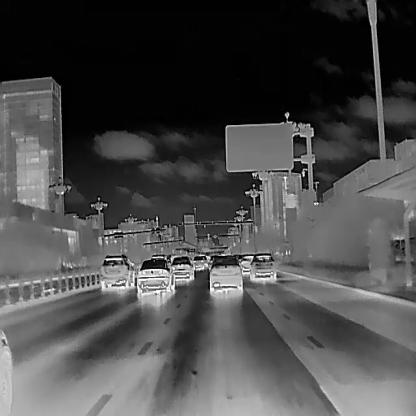car: (136, 257, 174, 295), (100, 254, 135, 292), (209, 257, 242, 295), (249, 252, 276, 282), (170, 255, 194, 282), (239, 253, 255, 274), (192, 255, 206, 270)
